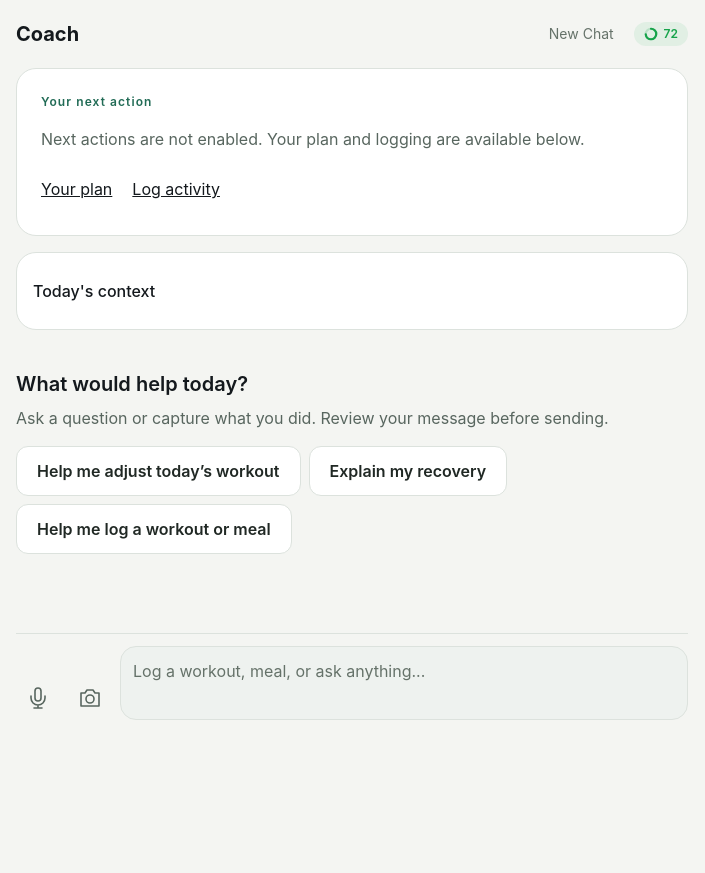
V2Page › input submission › shows server-provided error messages on API failure
This screenshot has width=705, height=873.
Type "test" into the text box named "Message input".
click(404, 683); type("test")  # box [121,647,687,719]
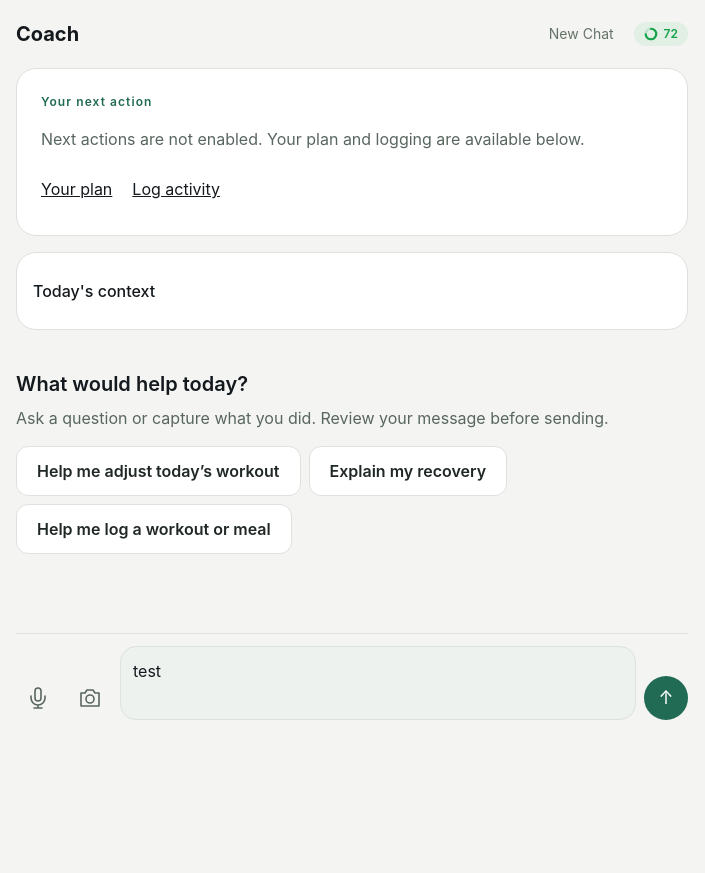
Click the button named "Send message".
click(666, 698)  # box [644,676,688,720]
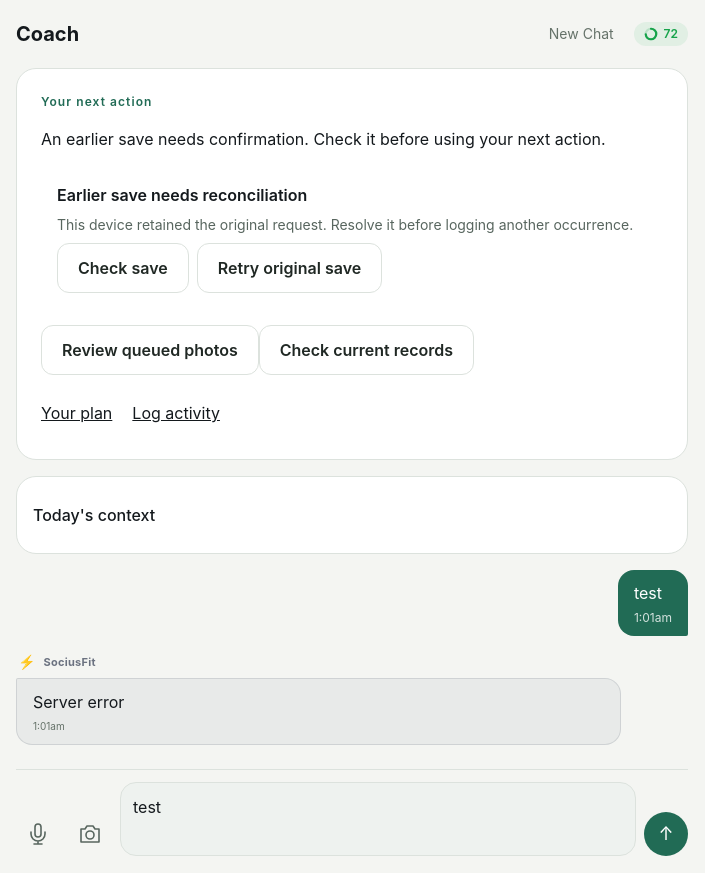
Check: the text "Server error" is shown, box [33,692,124,712]
